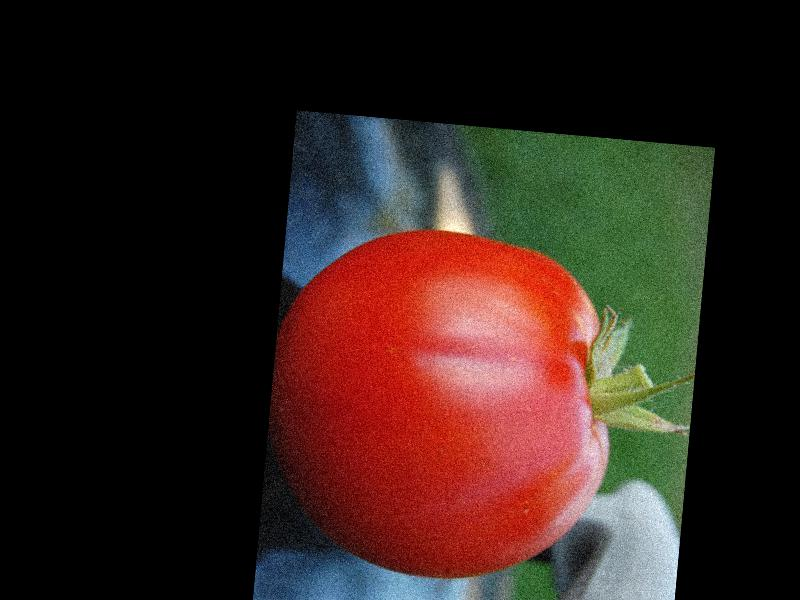Tomato: (255, 216, 627, 593)
